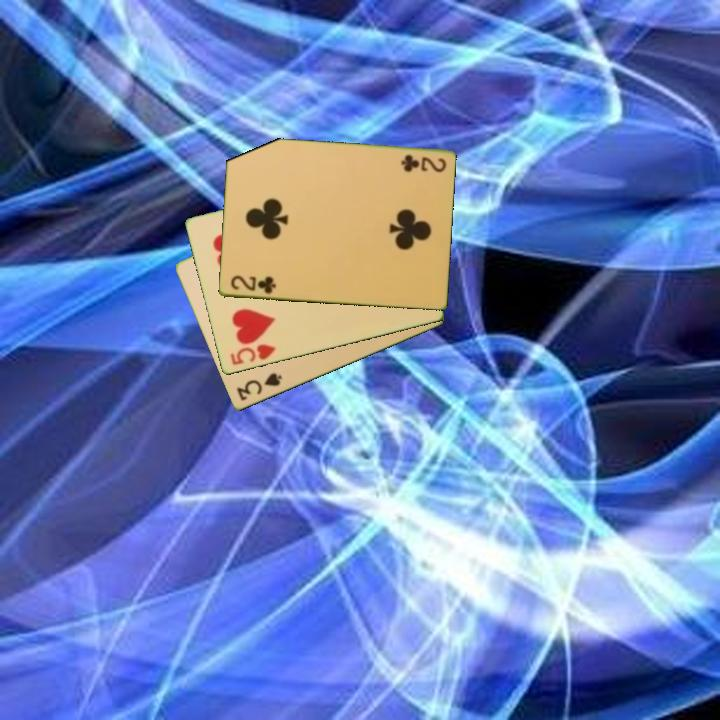2c: (227, 272, 278, 297), (397, 151, 448, 175)
3s: (233, 370, 285, 404)
5h: (227, 341, 279, 368)
